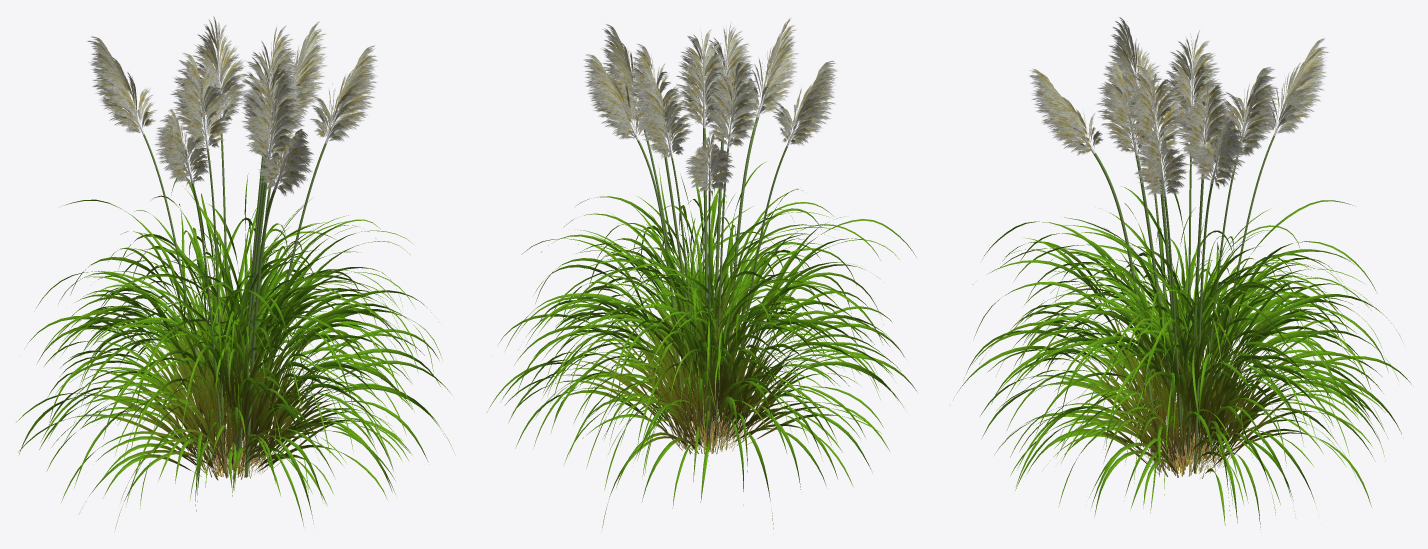
Rendered from cortaderia.gltf.
The picture shows the model from 3 angles, left to right: view 1: azimuth 30°, elevation 25°; view 2: azimuth 150°, elevation 25°; view 3: azimuth 270°, elevation 25°; orthographic projection. The views are drawn at different scales.
Parts seen in each view (by area): view 1: cortaderiaMesh6, cortaderiaMesh5, cortaderiaMesh4, cortaderiaMesh1, cortaderiaMesh7, cortaderiaMesh2, cortaderiaMesh3; view 2: cortaderiaMesh6, cortaderiaMesh5, cortaderiaMesh4, cortaderiaMesh1, cortaderiaMesh7, cortaderiaMesh2, cortaderiaMesh3; view 3: cortaderiaMesh6, cortaderiaMesh5, cortaderiaMesh4, cortaderiaMesh1, cortaderiaMesh7, cortaderiaMesh2, cortaderiaMesh3.
Boxes of the visible parts, <box> form: cortaderiaMesh6: <box>16,173,454,511</box>; cortaderiaMesh5: <box>19,204,443,528</box>; cortaderiaMesh4: <box>18,177,433,526</box>; cortaderiaMesh1: <box>87,16,378,196</box>; cortaderiaMesh7: <box>88,24,378,195</box>; cortaderiaMesh2: <box>143,133,326,477</box>; cortaderiaMesh3: <box>134,41,355,190</box>; cortaderiaMesh6: <box>504,161,916,531</box>; cortaderiaMesh5: <box>500,165,916,528</box>; cortaderiaMesh4: <box>487,182,903,505</box>; cortaderiaMesh1: <box>583,21,837,197</box>; cortaderiaMesh7: <box>585,18,837,192</box>; cortaderiaMesh2: <box>637,117,787,449</box>; cortaderiaMesh3: <box>624,42,801,191</box>; cortaderiaMesh6: <box>957,200,1398,525</box>; cortaderiaMesh5: <box>964,221,1401,529</box>; cortaderiaMesh4: <box>973,186,1411,516</box>; cortaderiaMesh1: <box>1029,17,1329,198</box>; cortaderiaMesh7: <box>1029,31,1326,193</box>; cortaderiaMesh2: <box>1093,135,1274,473</box>; cortaderiaMesh3: <box>1077,42,1306,196</box>.
Bounding box in the file's own units: 183 × 201 × 188.
4 materials, 3 textured.
